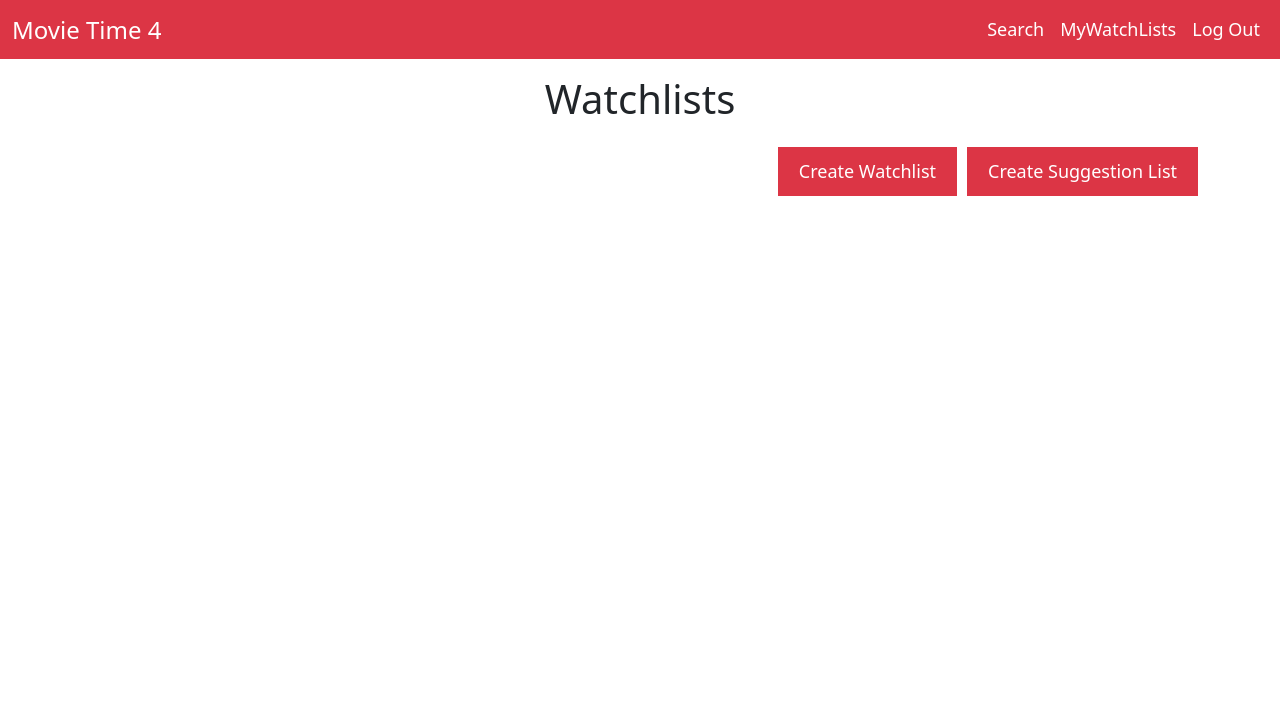
Test: Watchlist page › should show create watchlist modal when create watchlist button is clicked
Click the button with id "createWatchlist".
click(867, 172)  # box [778, 147, 957, 196]
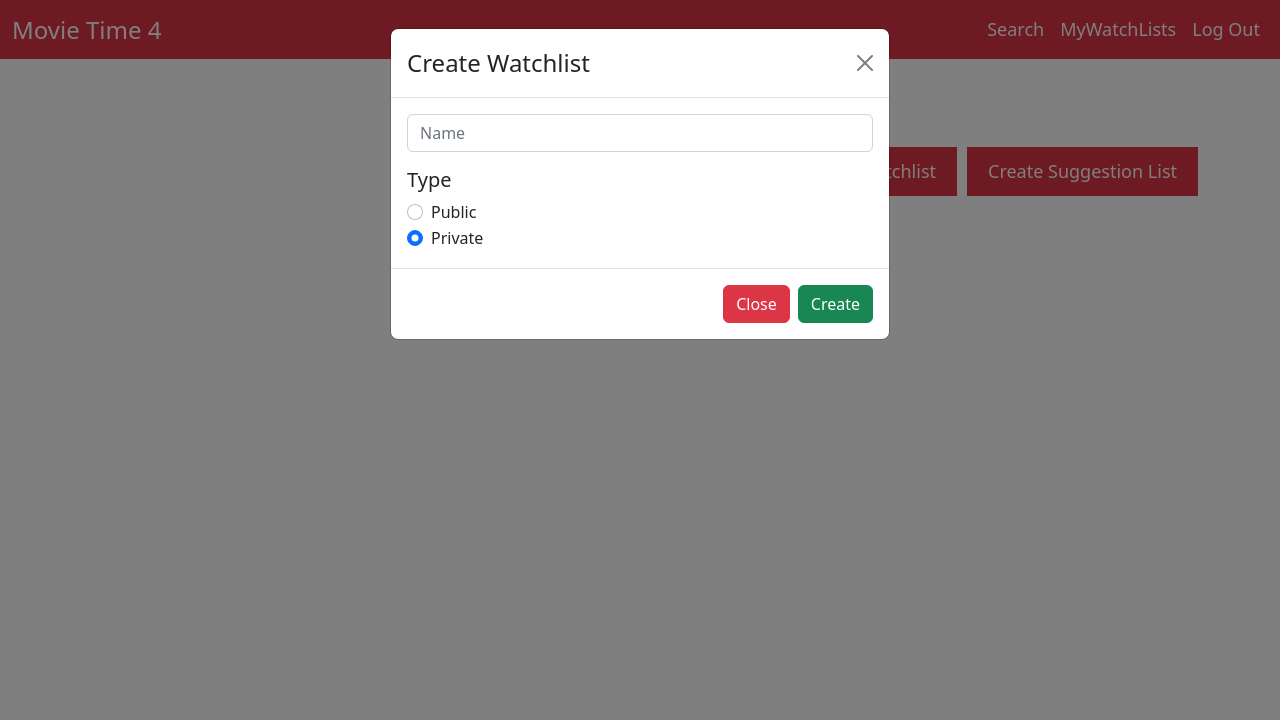
Expected: the text "Create Watchlist" is shown, [407, 45, 590, 81]
